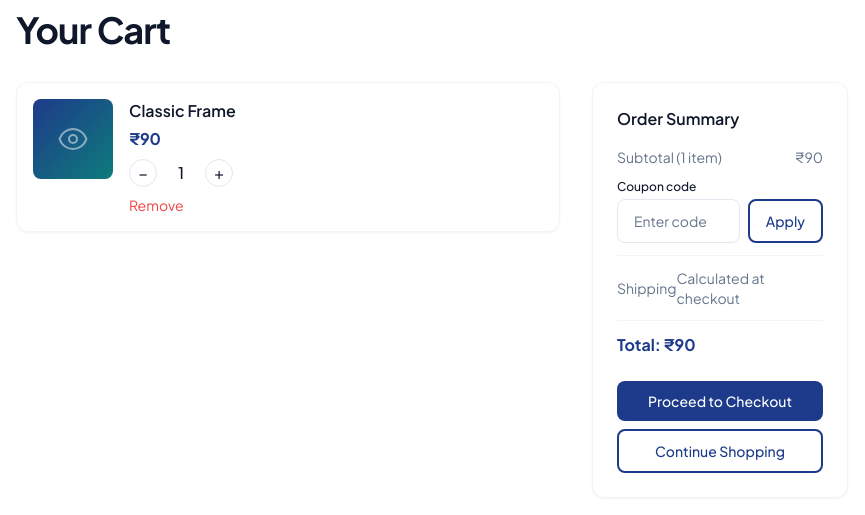
Scenario: CartPage › quantity stepper › removes the item and shows the empty-cart state when decremented to 0
Click the button named "decrease quantity".
click(143, 173)  # box top-left (129, 159), bottom-right (157, 187)
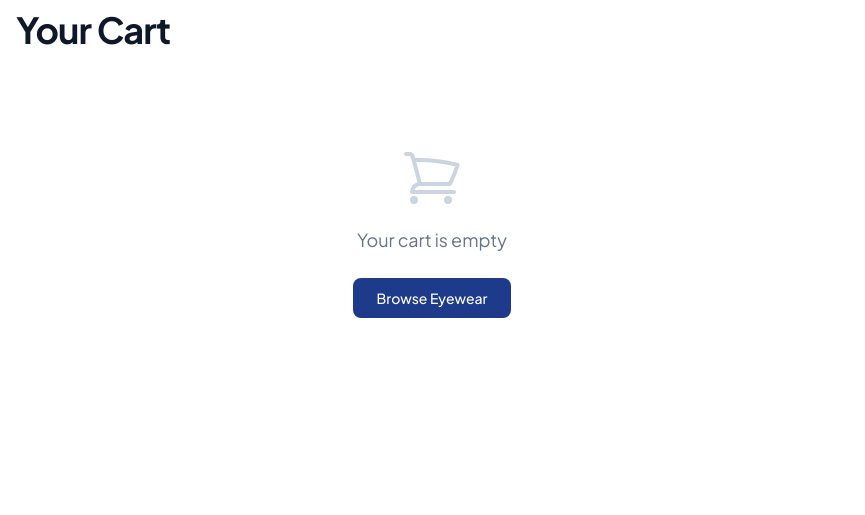
expect the text "Your cart is empty" is shown: met, box top-left (357, 226), bottom-right (507, 254)
